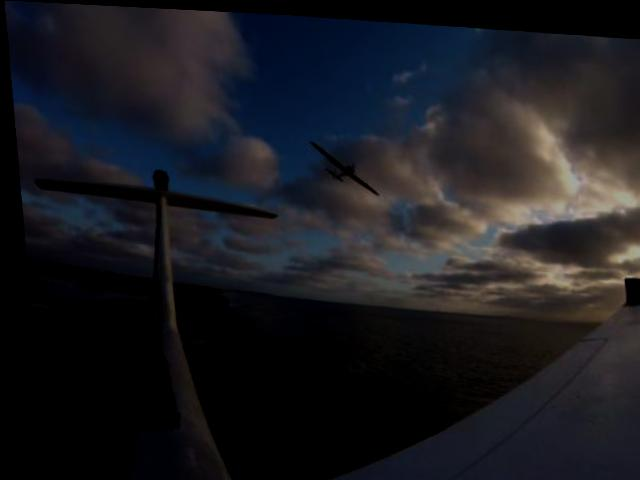uav: (299, 127, 382, 199)
